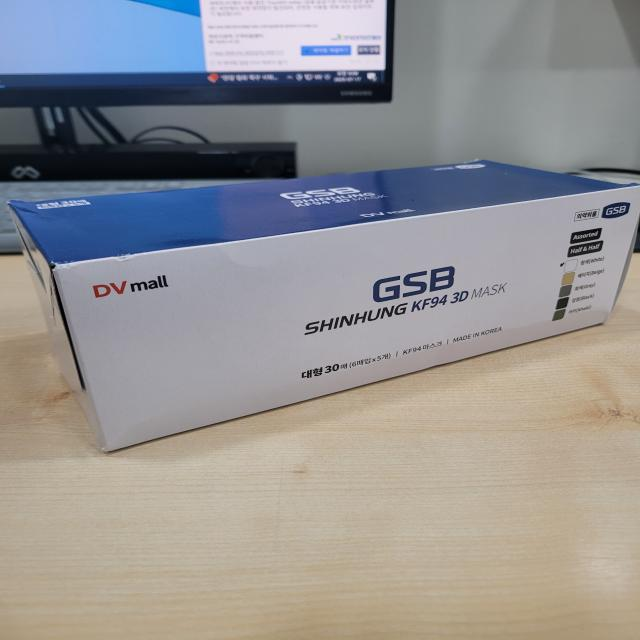mask: (0, 142, 640, 456)
